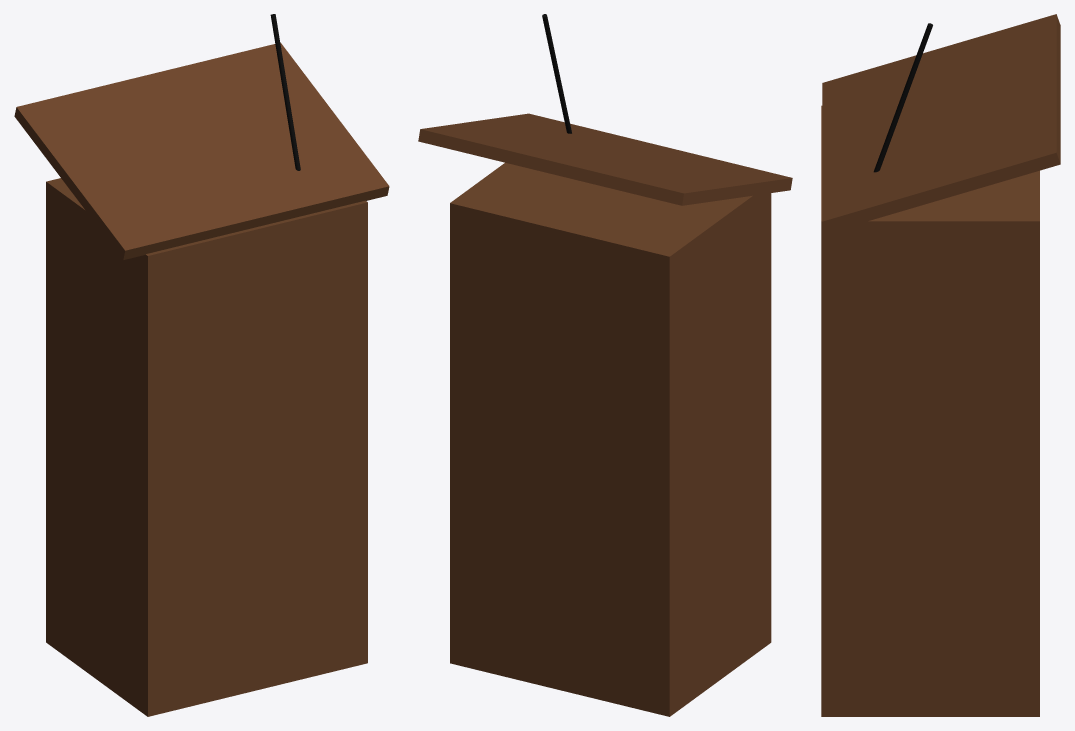
The model's file is school.hall.lectern.glb.
3 renders of one model, left to right at view 1: azimuth 30°, elevation 25°; view 2: azimuth 150°, elevation 25°; view 3: azimuth 270°, elevation 25°, orthographic. The views are drawn at different scales.
Parts seen in each view (by area): view 1: main__hardwood, main__plastic_black; view 2: main__hardwood, main__plastic_black; view 3: main__hardwood, main__plastic_black.
Part boxes in pixels (x1=…): main__hardwood: x1=14, y1=42, x2=389, y2=716; main__plastic_black: x1=270, y1=14, x2=300, y2=170; main__hardwood: x1=418, y1=113, x2=792, y2=716; main__plastic_black: x1=542, y1=14, x2=571, y2=133; main__hardwood: x1=821, y1=14, x2=1060, y2=716; main__plastic_black: x1=873, y1=23, x2=932, y2=172.
Size of the model in its own units: 0.6 by 1.35 by 0.4379.
